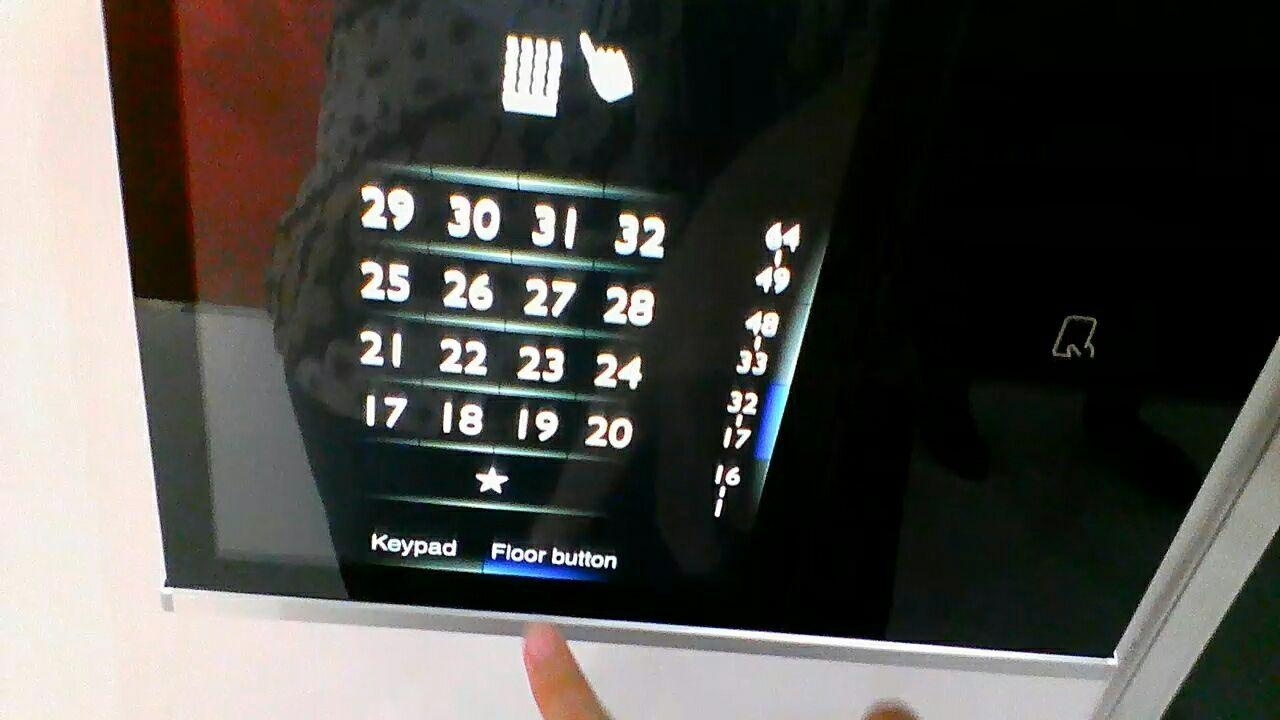17: (352, 380, 419, 444)
18: (425, 383, 491, 460)
19: (502, 389, 569, 463)
20: (569, 398, 643, 471)
21: (347, 316, 419, 384)
22: (429, 327, 501, 394)
23: (503, 334, 573, 395)
24: (579, 336, 657, 408)
25: (347, 245, 428, 322)
26: (431, 255, 506, 328)
27: (509, 262, 586, 339)
28: (587, 268, 667, 343)
29: (349, 163, 432, 247)
30: (430, 163, 513, 259)
31: (514, 177, 591, 267)
32: (590, 187, 684, 274)
s: (461, 449, 526, 507)
